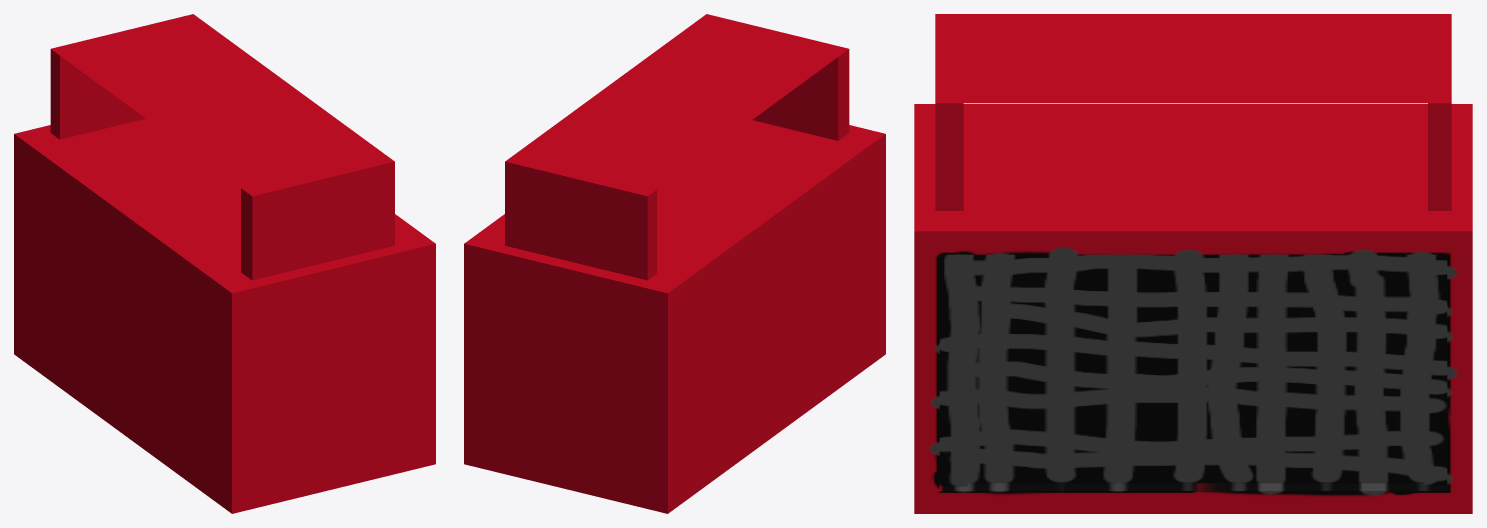
Rendered from Radio.glb.
The picture shows the model from 3 angles, left to right: view 1: azimuth 30°, elevation 25°; view 2: azimuth 150°, elevation 25°; view 3: azimuth 270°, elevation 25°; orthographic projection. The views are drawn at different scales.
Parts seen in each view (by area): view 1: radio; view 2: radio; view 3: radio.
Boxes of the visible parts, x1=… form: radio: x1=14, y1=14, x2=435, y2=513; radio: x1=464, y1=14, x2=885, y2=513; radio: x1=914, y1=14, x2=1472, y2=513.
Size of the model in its own units: 1.08 by 1.54 by 2.
Materials: 1 (1 with a texture image).
